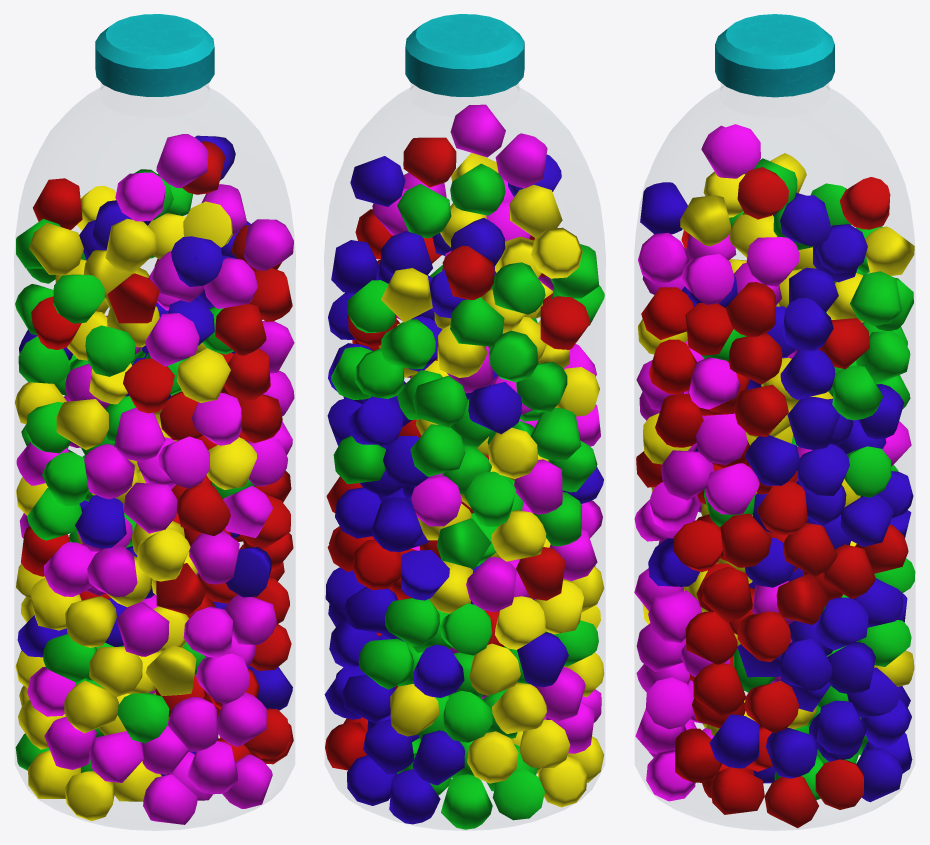
File: 244_LowerPolycount.fbx
3 renders of one model, left to right at view 1: azimuth 30°, elevation 25°; view 2: azimuth 150°, elevation 25°; view 3: azimuth 270°, elevation 25°, orthographic.
Visible parts, largest first — view 1: VerdeGR3, Tapon; view 2: VerdeGR3, Tapon; view 3: VerdeGR3, Tapon.
Part boxes in pixels (x1,y1,x2,y2): VerdeGR3: (15,134,294,824); Tapon: (95,14,214,96); VerdeGR3: (324,104,604,829); Tapon: (405,14,524,96); VerdeGR3: (634,124,915,828); Tapon: (715,14,834,97).
Bounding box in the file's own units: 4.02 × 11.68 × 4.
